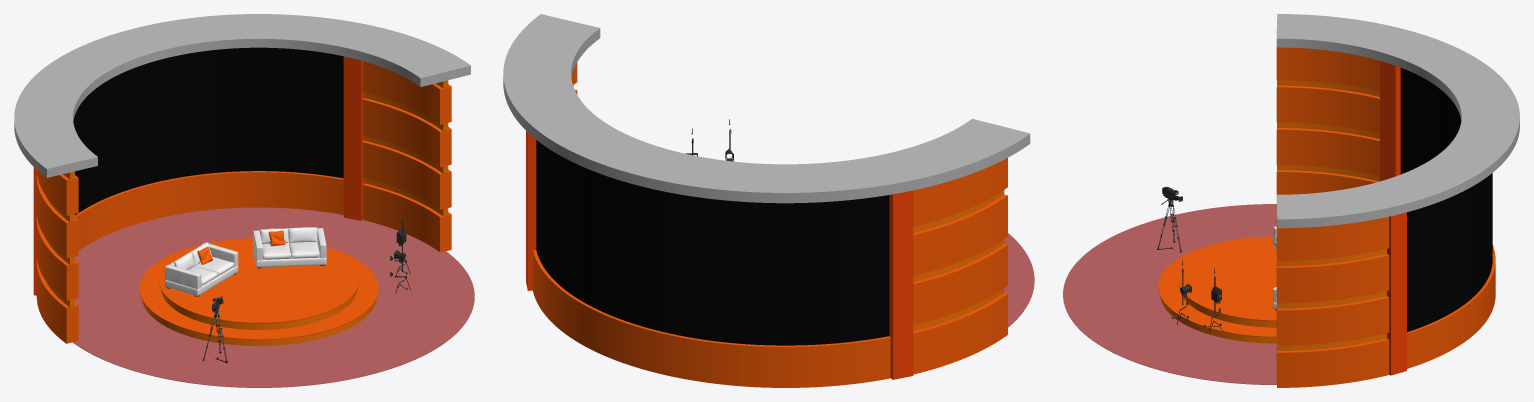
File: asset.glb
3 renders of one model, left to right at view 1: azimuth 30°, elevation 25°; view 2: azimuth 150°, elevation 25°; view 3: azimuth 270°, elevation 25°, orthographic. The views are drawn at different scales.
Parts seen in each view (by area): view 1: Circle011, Circle015, Circle009, Circle014, Cylinder004, Circle005, Circle003, Circle001, Cylinder003, Circle007, Box004, archmodels_129_002obj_053 (+8 smaller); view 2: Circle015, Circle009, Circle014, Box003, Circle005, Circle001, Circle003, Circle007, Circle011, Box004, Circle006, Circle004 (+1 smaller); view 3: Circle009, Circle011, Circle015, Circle005, Circle003, Circle007, Cylinder004, Circle001, Circle014, Box004, Box003, Cylinder003 (+6 smaller).
Part boxes in pixels (x1=…): Circle011: x1=72, y1=207, x2=474, y2=387; Circle015: x1=73, y1=47, x2=343, y2=215; Circle009: x1=14, y1=14, x2=470, y2=177; Circle014: x1=75, y1=171, x2=343, y2=250; Cylinder004: x1=159, y1=238, x2=358, y2=323; Circle005: x1=36, y1=98, x2=451, y2=258; Circle003: x1=36, y1=140, x2=451, y2=301; Circle001: x1=36, y1=183, x2=451, y2=343; Cylinder003: x1=139, y1=238, x2=378, y2=340; Circle007: x1=36, y1=61, x2=451, y2=215; Box004: x1=343, y1=56, x2=364, y2=220; archmodels_129_002obj_053: x1=252, y1=227, x2=326, y2=267; Circle015: x1=536, y1=140, x2=889, y2=345; Circle009: x1=503, y1=14, x2=1030, y2=203; Circle014: x1=533, y1=250, x2=890, y2=387; Box003: x1=889, y1=190, x2=913, y2=379; Circle005: x1=575, y1=89, x2=1007, y2=276; Circle001: x1=913, y1=293, x2=1007, y2=374; Circle003: x1=913, y1=243, x2=1007, y2=325; Circle007: x1=571, y1=62, x2=1007, y2=226; Circle011: x1=1004, y1=233, x2=1034, y2=327; Box004: x1=526, y1=131, x2=536, y2=290; Circle006: x1=573, y1=85, x2=1004, y2=232; Circle004: x1=913, y1=239, x2=1004, y2=281; Circle009: x1=1276, y1=14, x2=1519, y2=228; Circle011: x1=1063, y1=204, x2=1276, y2=384; Circle015: x1=1400, y1=68, x2=1492, y2=331; Circle005: x1=1276, y1=85, x2=1389, y2=303; Circle003: x1=1276, y1=128, x2=1389, y2=345; Circle007: x1=1276, y1=47, x2=1389, y2=260; Cylinder004: x1=1177, y1=236, x2=1276, y2=321; Circle001: x1=1276, y1=170, x2=1389, y2=387; Circle014: x1=1407, y1=245, x2=1495, y2=368; Box004: x1=1387, y1=212, x2=1406, y2=375; Box003: x1=1380, y1=61, x2=1400, y2=181; Cylinder003: x1=1158, y1=236, x2=1276, y2=337.
Bounding box in the file's own units: 12.5 × 5.05 × 11.75.
14 materials, 2 textured.
